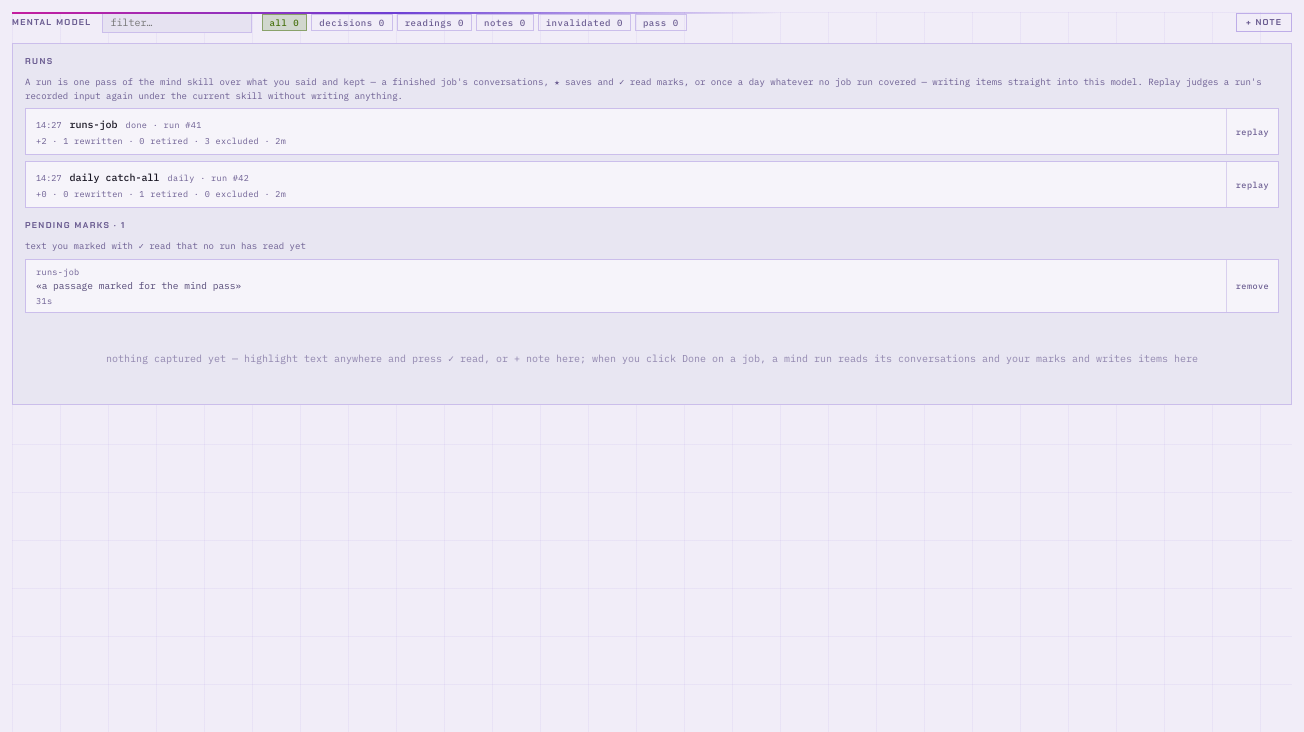
Test case: MentalModelPane — mind runs › expands a run to its report and answer, and replays it as a dry run
The width and height of the screenshot is (1304, 732).
Click the 1st text "runs-job" at point(94, 124), box [70, 117, 118, 132]
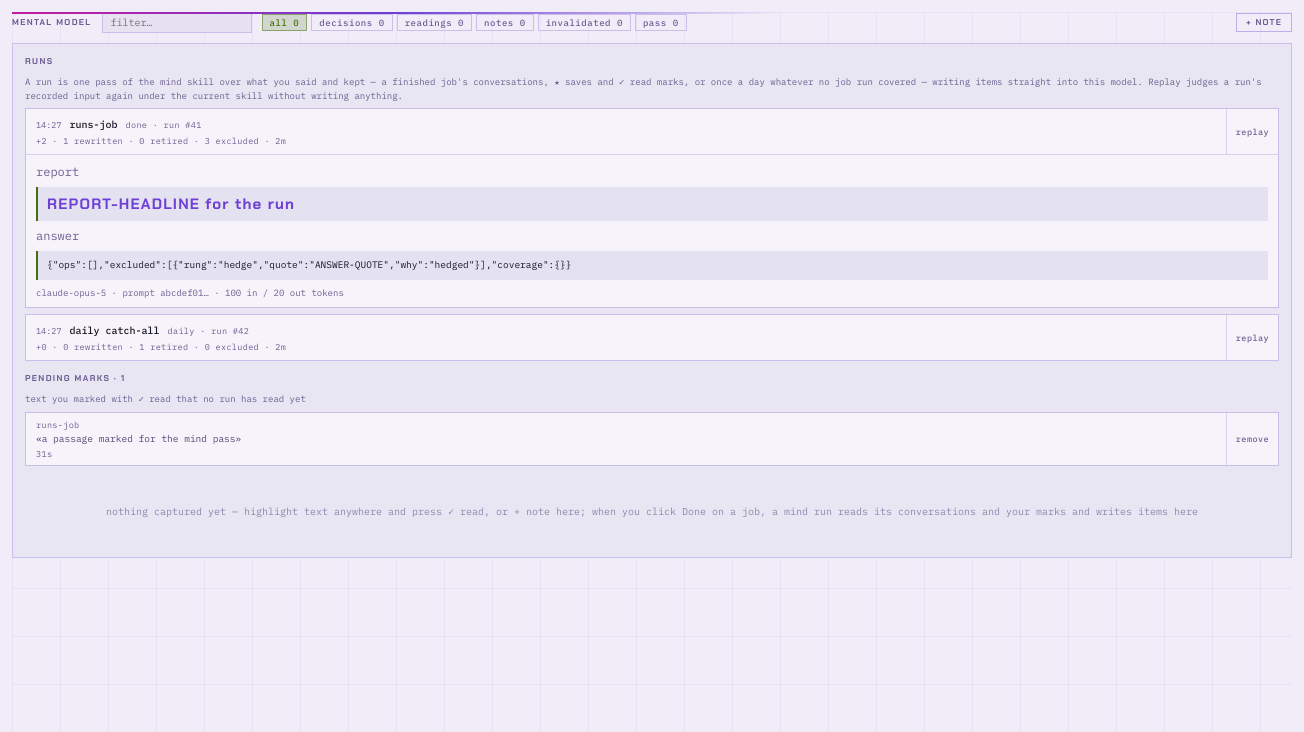
expect the heading "REPORT-HEADLINE for the run" is shown: met, box [47, 194, 295, 214]
Click the 1st button "replay" at point(1252, 132), box [1226, 109, 1278, 154]
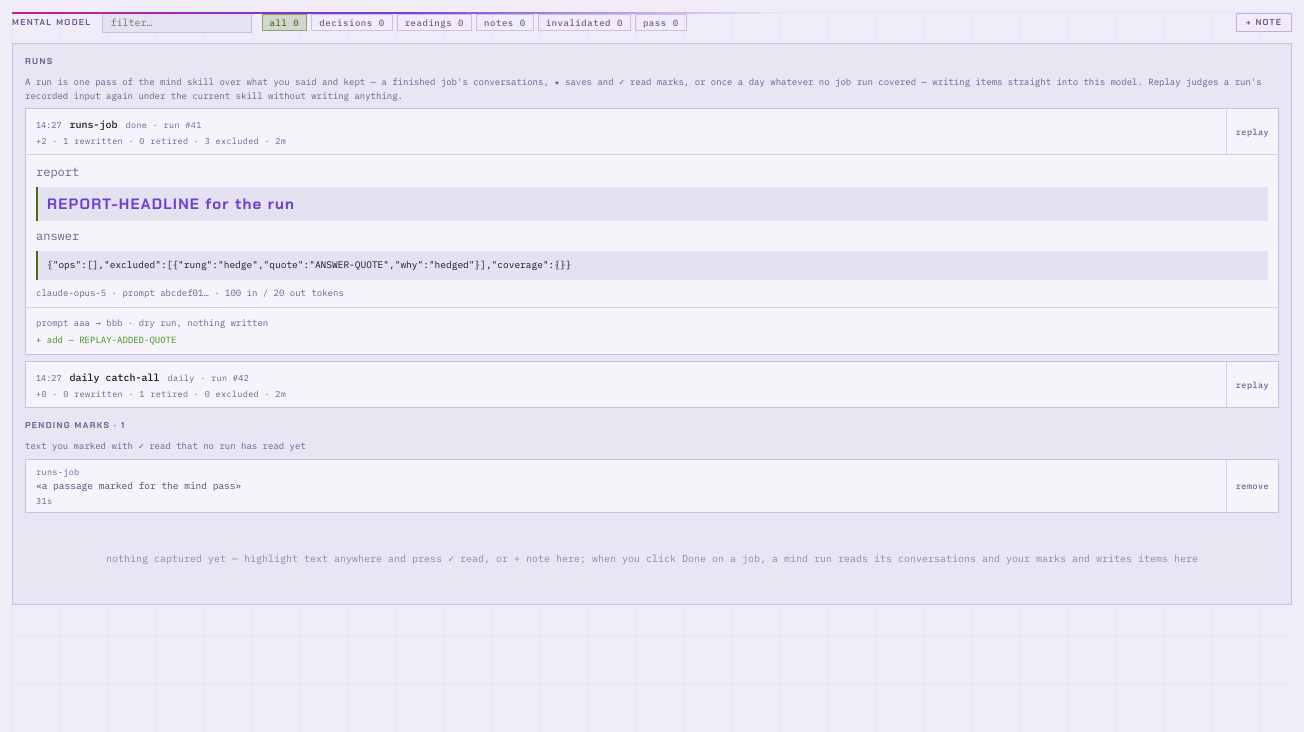
expect the text "+ add — REPLAY-ADDED-QUOTE" is shown: met, box [36, 334, 176, 345]
